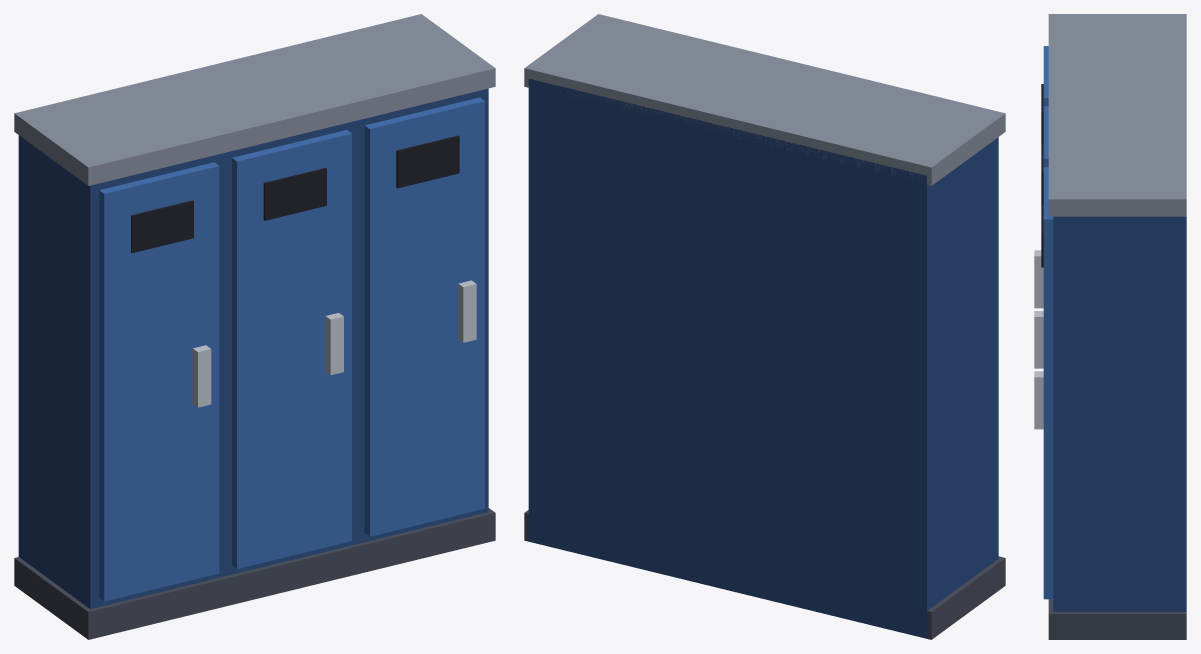
The model's file is lockers.glb.
3 renders of one model, left to right at view 1: azimuth 30°, elevation 25°; view 2: azimuth 150°, elevation 25°; view 3: azimuth 270°, elevation 25°, orthographic. The views are drawn at different scales.
Parts seen in each view (by area): view 1: lockers; view 2: lockers; view 3: lockers.
Part boxes in pixels (box(x1,y1,x2,y2)): lockers: box(14, 14, 495, 639); lockers: box(524, 14, 1005, 639); lockers: box(1034, 14, 1186, 639).
Bounding box in the file's own units: 0.92 × 1.02 × 0.32.
Materials: 1 (1 with a texture image).
